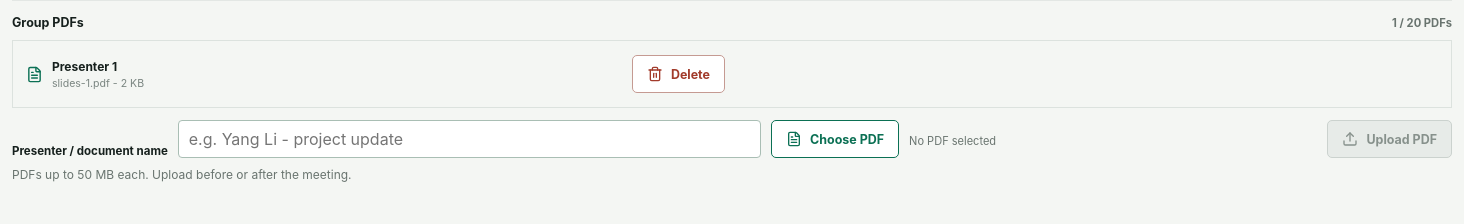
SlideFilesControl › removes a PDF only after confirmation
The image size is (1464, 224).
Click the button with aria-label "Remove Presenter 1" at (678, 74), box [632, 55, 725, 93]
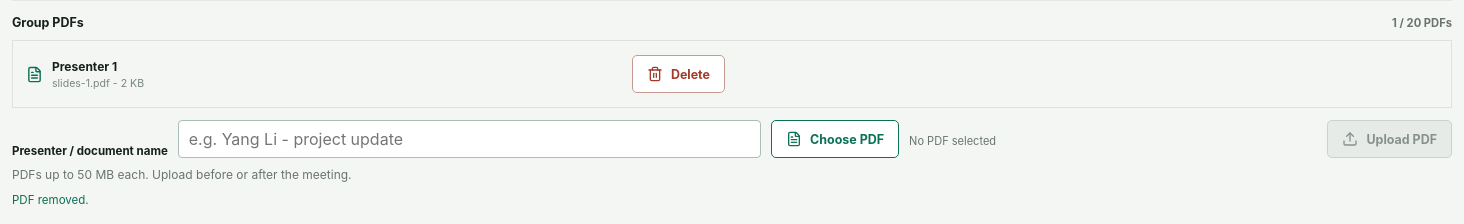
Expected: the text "PDF removed." is shown, [12, 193, 89, 207]
